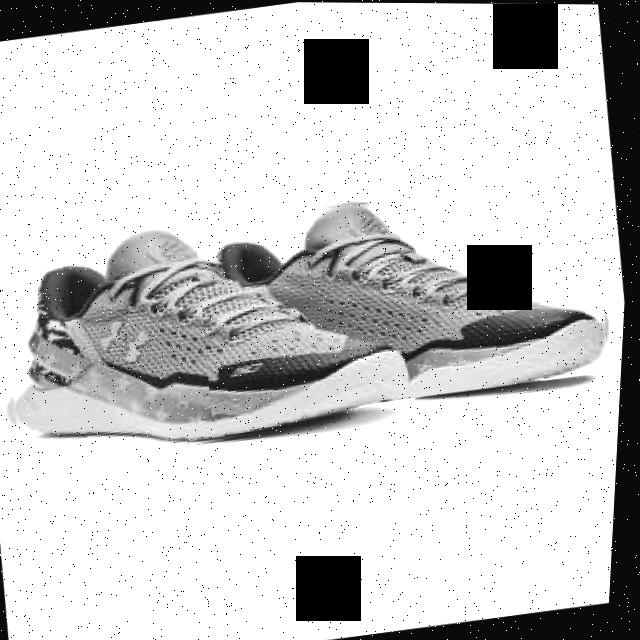shoe: (0, 195, 430, 472), (189, 166, 626, 427)
